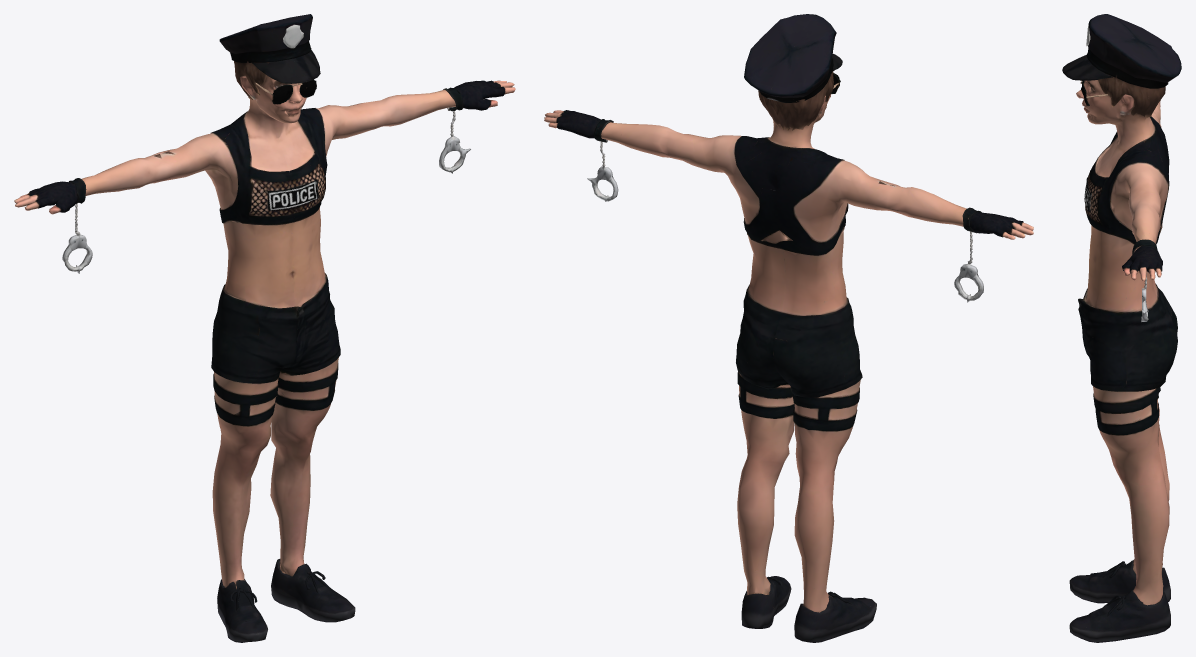
Rendered from police.obj.
The picture shows the model from 3 angles, left to right: view 1: azimuth 30°, elevation 25°; view 2: azimuth 150°, elevation 25°; view 3: azimuth 270°, elevation 25°; orthographic projection. The views are drawn at different scales.
Visible parts, largest first — view 1: mesh_0; view 2: mesh_0; view 3: mesh_0.
Part boxes in pixels (x1,y1,x2,y2): mesh_0: (14, 14, 515, 642); mesh_0: (544, 14, 1033, 642); mesh_0: (1062, 14, 1181, 642).
Bounding box in the file's own units: 818 × 951 × 173.
Materials: 1 (1 with a texture image).
